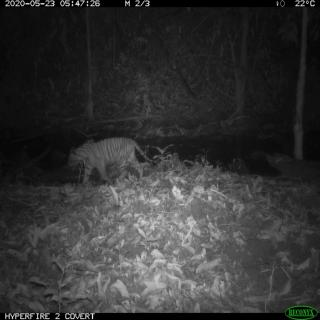Tiger: (58, 124, 155, 200)
